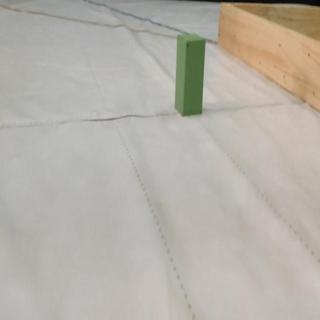greenbox: (175, 33, 208, 116)
